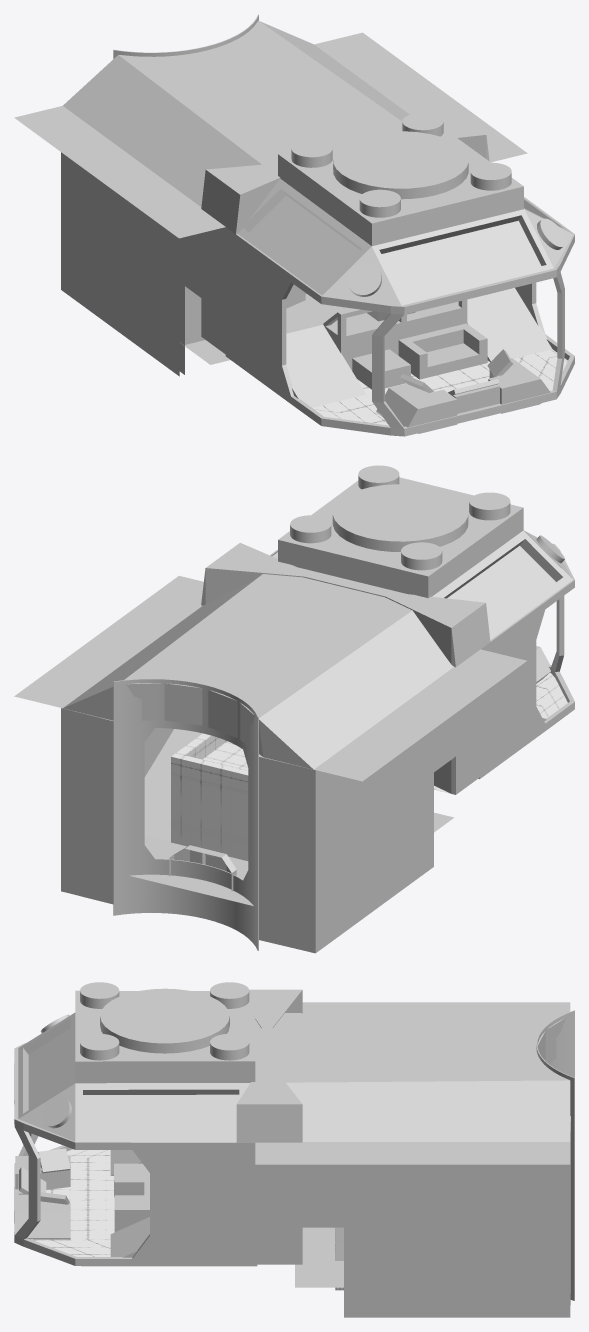
The model's file is SM_Cockpitv2.fbx.
The picture shows the model from 3 angles, top to bottom: view 1: azimuth 30°, elevation 25°; view 2: azimuth 150°, elevation 25°; view 3: azimuth 270°, elevation 25°; orthographic projection. The views are drawn at different scales.
Visible parts, largest first — view 1: Cube.013, Cube.006, Plane.002, Cube.011, Cube.009, Cylinder, Cylinder.001, Cube.001, Sprite.007, Cube.015, Cylinder.002, Cube.016 (+5 smaller); view 2: Cube.013, Cube.006, Cylinder.003, Cube.011, Sprite.008, Plane.002, Cylinder, Cylinder.001, Cube.024, Plane.003, Cube.012, Sprite.007; view 3: Cube.013, Cube.006, Plane.002, Cube.011, Cylinder, Sprite.007, Cylinder.001, Cube.001, Plane.003, Cylinder.003, Cube.015, Cube.009 (+3 smaller).
Boxes of the visible parts, x1,y1,x2,y2 form: Cube.013: (14, 20, 573, 305); Cube.006: (61, 152, 467, 376); Plane.002: (225, 197, 574, 436); Cube.011: (201, 109, 489, 361); Cube.009: (286, 288, 552, 407); Cylinder: (333, 131, 468, 199); Cylinder.001: (291, 112, 511, 217); Cube.001: (376, 358, 550, 433); Sprite.007: (312, 349, 567, 425); Cube.015: (398, 323, 487, 379); Cylinder.002: (347, 218, 565, 296); Cube.016: (352, 349, 410, 389); Cube.013: (14, 477, 572, 781); Cube.006: (61, 708, 455, 953); Cylinder.003: (113, 678, 258, 950); Cube.011: (201, 543, 490, 794); Sprite.008: (171, 733, 248, 860); Plane.002: (270, 543, 574, 778); Cylinder: (332, 484, 468, 551); Cylinder.001: (290, 465, 510, 570); Cube.024: (144, 729, 202, 841); Plane.003: (129, 812, 454, 905); Cube.012: (169, 845, 236, 891); Sprite.007: (434, 673, 567, 793); Cube.013: (18, 990, 570, 1164); Cube.006: (302, 1116, 570, 1317); Plane.002: (14, 1043, 257, 1266); Cube.011: (236, 989, 302, 1264); Cylinder: (100, 988, 229, 1053); Sprite.007: (31, 1149, 114, 1256); Cylinder.001: (80, 982, 249, 1060); Cube.001: (15, 1156, 70, 1239); Plane.003: (295, 1227, 343, 1287); Cylinder.003: (536, 1010, 574, 1300); Cube.015: (114, 1178, 149, 1232); Cube.009: (110, 1150, 149, 1257).
Size of what is drawn, in the model's own units: 18.77 by 13.55 by 27.43.
Materials: 1 (1 with a texture image).
